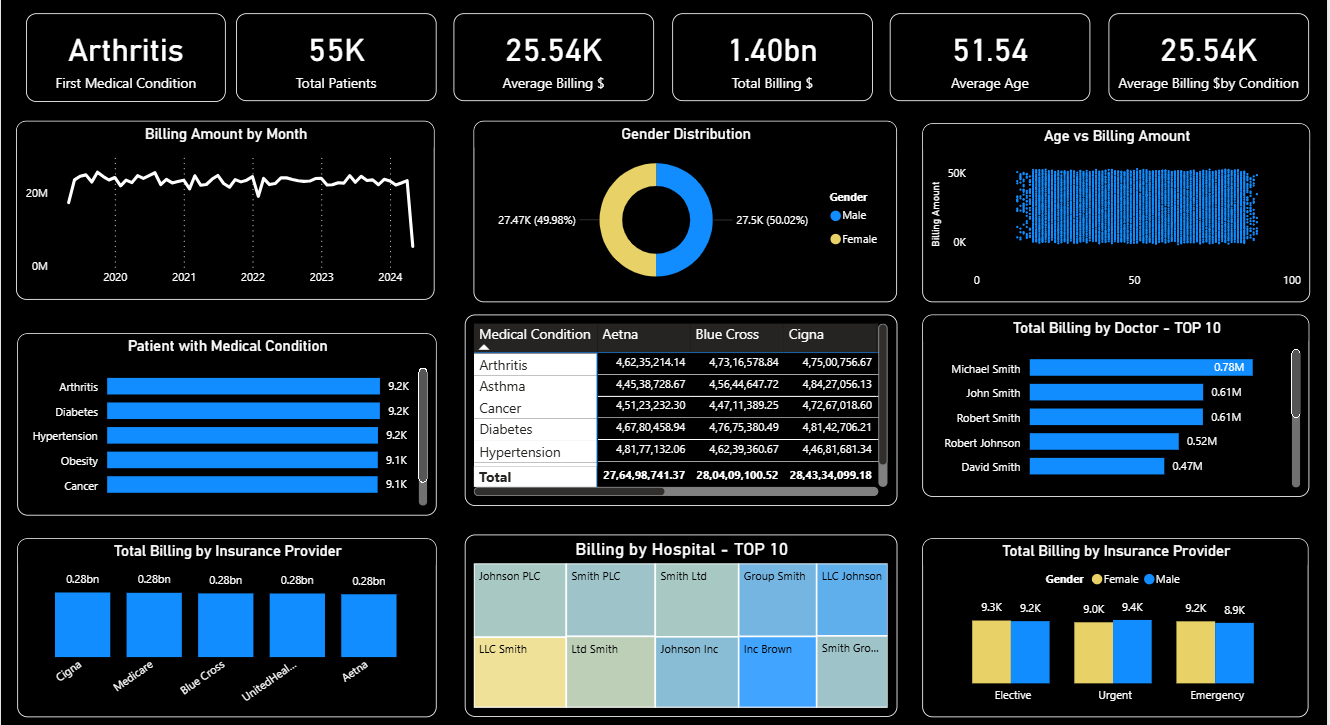

What the dashboard file says about the page in this screenshot:
{"tool":"powerbi","page":{"name":"Page 1","canvas":[1280,720],"ordinal":0},"visuals":[{"type":"card","fields":{"Values":["healthcare_dataset_cleaned.Medical Condition"]},"box":[24.1,20.5,193,85.7],"z":0},{"type":"card","fields":{"Values":["healthcare_dataset_cleaned.Total Patients"]},"box":[226.4,20.6,193.5,85.1],"z":1000},{"type":"card","fields":{"Values":["healthcare_dataset_cleaned.Average Billing $"]},"box":[436.6,20.6,193.5,85.1],"z":2000},{"type":"card","fields":{"Values":["healthcare_dataset_cleaned.Total Billing $"]},"box":[647.4,20.6,193.5,85.1],"z":3000},{"type":"card","fields":{"Values":["healthcare_dataset_cleaned.Average Age"]},"box":[858.2,20.6,193.5,85.1],"z":4000},{"type":"card","fields":{"Values":["healthcare_dataset_cleaned.Average Billing $by Condition"]},"box":[1069,20.6,193.5,85.1],"z":5000},{"type":"lineChart","title":"Billing Amount by Month","fields":{"Y":["healthcare_dataset_cleaned.Billing Amount"],"Category":["healthcare_dataset_cleaned.Date of Admission.Variation.Date Hierarchy.Year","healthcare_dataset_cleaned.Date of Admission.Variation.Date Hierarchy.Month"]},"box":[14.5,124.3,404.2,172.5],"z":6000},{"type":"clusteredBarChart","title":"Patient with Medical Condition","fields":{"Category":["healthcare_dataset_cleaned.Medical Condition"],"Y":["healthcare_dataset_cleaned.Name"]},"box":[15.1,329.3,404.8,175.6],"z":7000},{"type":"clusteredColumnChart","title":"Total Billing by Insurance Provider","fields":{"Category":["healthcare_dataset_cleaned.Insurance Provider"],"Y":["healthcare_dataset_cleaned.Billing Amount"]},"box":[15.1,526.9,404.8,172.9],"z":8000},{"type":"clusteredBarChart","title":"Total Billing by Doctor - TOP 10","fields":{"Category":["healthcare_dataset_cleaned.Doctor"],"Y":["healthcare_dataset_cleaned.Billing Amount"]},"box":[889.1,311.3,374,176.1],"z":9000},{"type":"clusteredColumnChart","title":"Total Billing by Insurance Provider","fields":{"Category":["healthcare_dataset_cleaned.Admission Type"],"Y":["healthcare_dataset_cleaned.Name"],"Series":["healthcare_dataset_cleaned.Gender"]},"box":[889.1,527.2,372.8,172.5],"z":10000},{"type":"donutChart","title":"Gender Distribution","fields":{"Category":["healthcare_dataset_cleaned.Gender"],"Y":["healthcare_dataset_cleaned.Name"]},"box":[456,124.3,409,174.9],"z":11000},{"type":"scatterChart","title":"Age vs Billing Amount","fields":{"X":["healthcare_dataset_cleaned.Age"],"Y":["healthcare_dataset_cleaned.Billing Amount"]},"box":[889.2,126.2,374.6,172.9],"z":12000},{"type":"treemap","title":"Billing by Hospital - TOP 10","fields":{"Group":["healthcare_dataset_cleaned.Hospital"],"Values":["healthcare_dataset_cleaned.Billing Amount"]},"box":[447.6,523.6,417.4,176.1],"z":13000},{"type":"pivotTable","fields":{"Rows":["healthcare_dataset_cleaned.Medical Condition"],"Columns":["healthcare_dataset_cleaned.Insurance Provider"],"Values":["healthcare_dataset_cleaned.Billing Amount"]},"box":[447.6,311.3,417.4,184.6],"z":14000}]}

Visuals, with their boxes on the page's 1280x720 design canvas (x1, y1, x2, y2). These are canvas units, not pixel positions in the 1330x725 screenshot, which may show the page scaled, cropped or inside an application window:
card - healthcare_dataset_cleaned.Medical Condition: 24/20/217/106
card - healthcare_dataset_cleaned.Total Patients: 226/21/420/106
card - healthcare_dataset_cleaned.Average Billing $: 437/21/630/106
card - healthcare_dataset_cleaned.Total Billing $: 647/21/841/106
card - healthcare_dataset_cleaned.Average Age: 858/21/1052/106
card - healthcare_dataset_cleaned.Average Billing $by Condition: 1069/21/1262/106
"Billing Amount by Month" lineChart: 14/124/419/297
"Patient with Medical Condition" clusteredBarChart: 15/329/420/505
"Total Billing by Insurance Provider" clusteredColumnChart: 15/527/420/700
"Total Billing by Doctor - TOP 10" clusteredBarChart: 889/311/1263/487
"Total Billing by Insurance Provider" clusteredColumnChart: 889/527/1262/700
"Gender Distribution" donutChart: 456/124/865/299
"Age vs Billing Amount" scatterChart: 889/126/1264/299
"Billing by Hospital - TOP 10" treemap: 448/524/865/700
pivotTable - healthcare_dataset_cleaned.Medical Condition x healthcare_dataset_cleaned.Insurance Provider: 448/311/865/496
